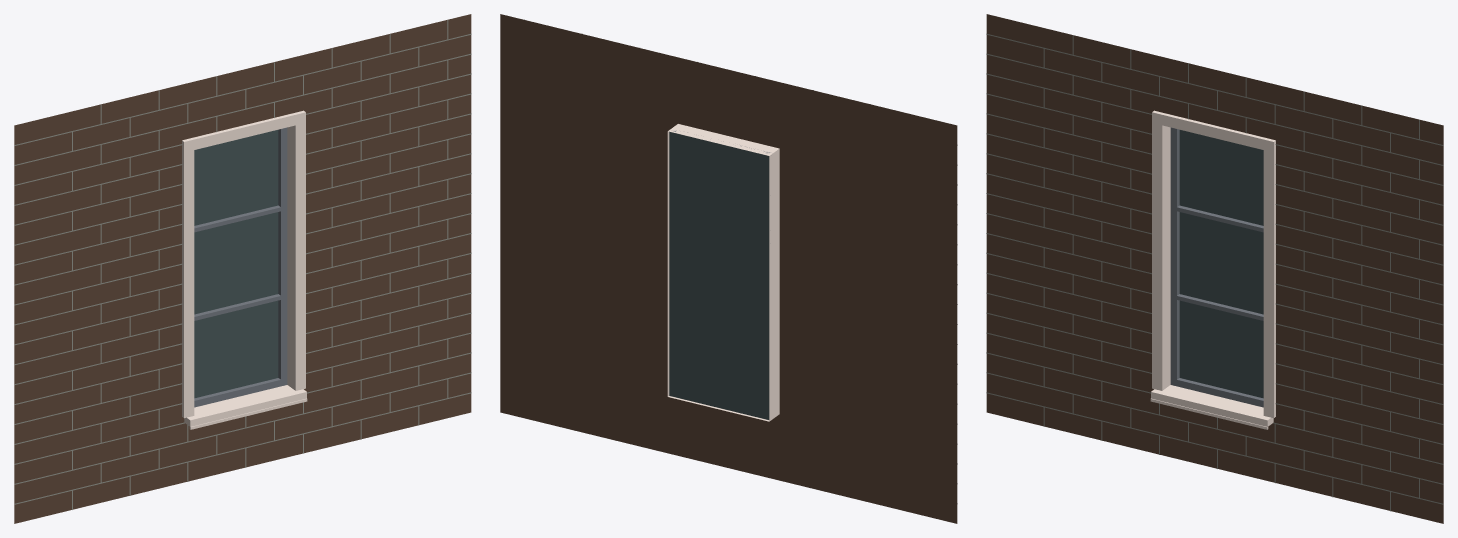
The model's file is mid-w2_close.fbx.
3 renders of one model, left to right at view 1: azimuth 30°, elevation 25°; view 2: azimuth 150°, elevation 25°; view 3: azimuth 330°, elevation 25°, orthographic.
Parts seen in each view (by area): view 1: a2001/800/mid-w2_close; view 2: a2001/800/mid-w2_close; view 3: a2001/800/mid-w2_close.
Boxes of the visible parts, x1,y1,x2,y2 form: a2001/800/mid-w2_close: [14, 14, 471, 523]; a2001/800/mid-w2_close: [500, 14, 957, 523]; a2001/800/mid-w2_close: [986, 14, 1443, 523].
Size of the model in its own units: 3.6 by 3 by 0.225.
